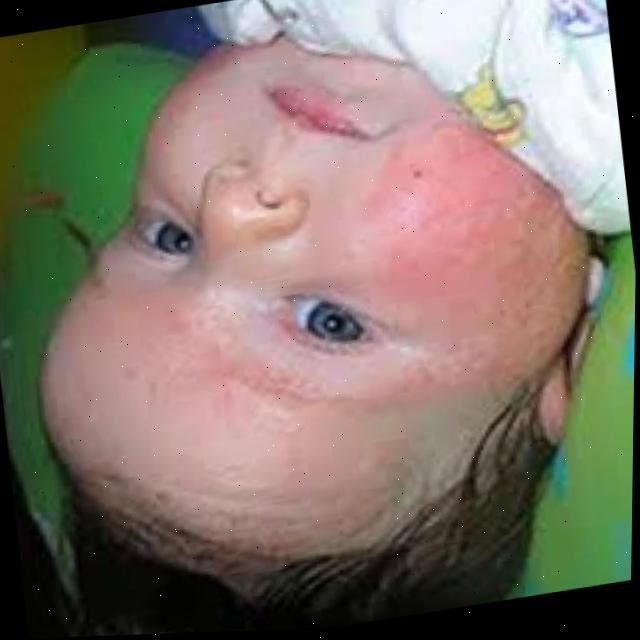Eczema: (400, 141, 567, 355)
